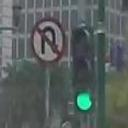NoVirarU: (32, 18, 64, 64)
